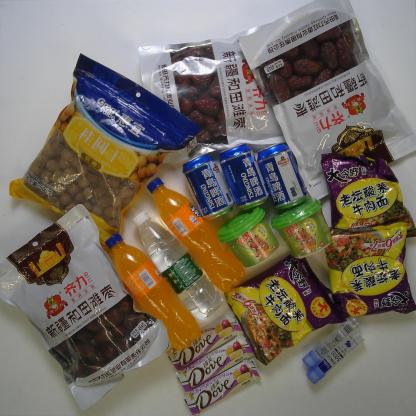Alcohol: (181, 150, 235, 222), (257, 141, 311, 211), (221, 141, 269, 211)
Chocolate: (176, 333, 255, 397), (164, 313, 244, 372), (183, 359, 261, 415)
Dried Food: (9, 52, 201, 250), (238, 0, 416, 203), (0, 203, 170, 412), (138, 36, 300, 164)
Drink: (146, 176, 247, 295), (103, 231, 203, 351), (130, 208, 224, 320)
Instant Drink: (270, 196, 335, 260), (217, 205, 279, 269)
Instant Noodles: (224, 252, 350, 366), (325, 214, 416, 320), (320, 152, 416, 239)
Stationery: (306, 328, 365, 386), (302, 316, 361, 370)
